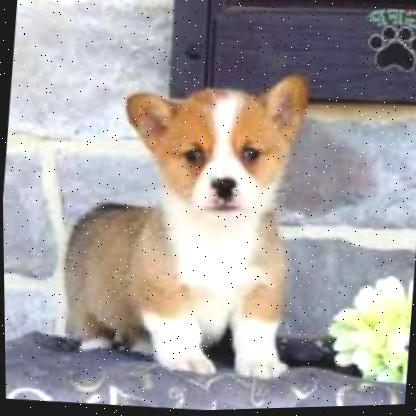dog: (51, 54, 317, 387)
